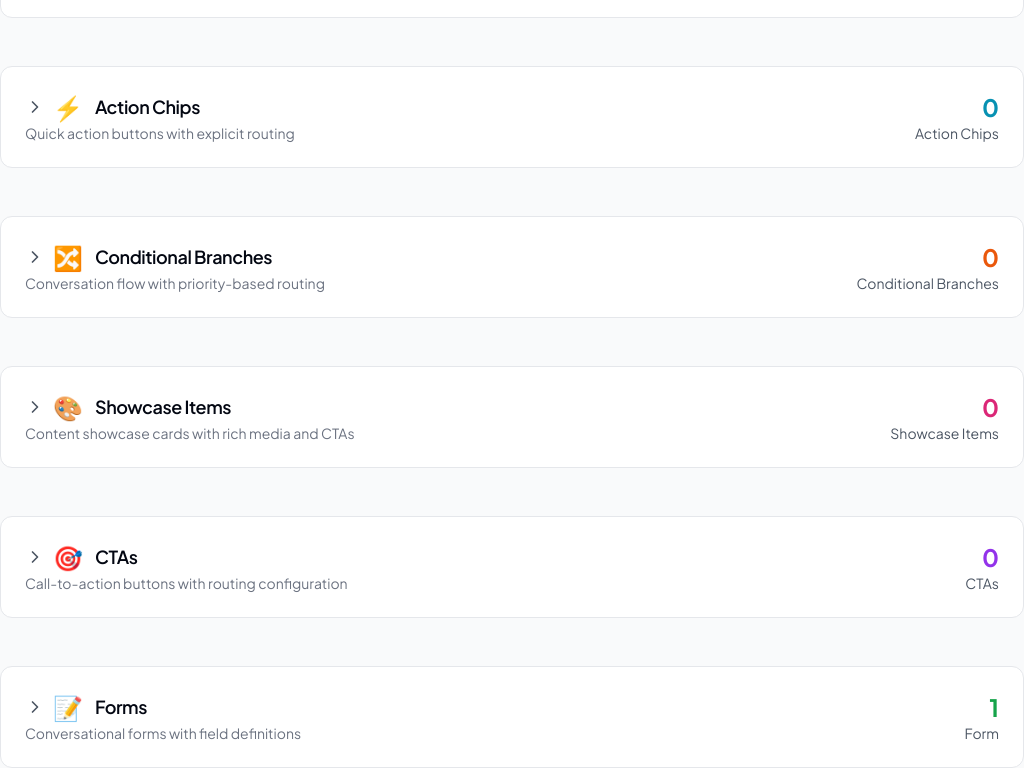
Scenario: ConversationFlowDiagram › Status Icons › should show orphaned icon on orphaned entities
The image size is (1024, 768).
// Expand Forms section
Click the button named "Expand section": (54, 707) [25,691,83,723]
(page scrolled)
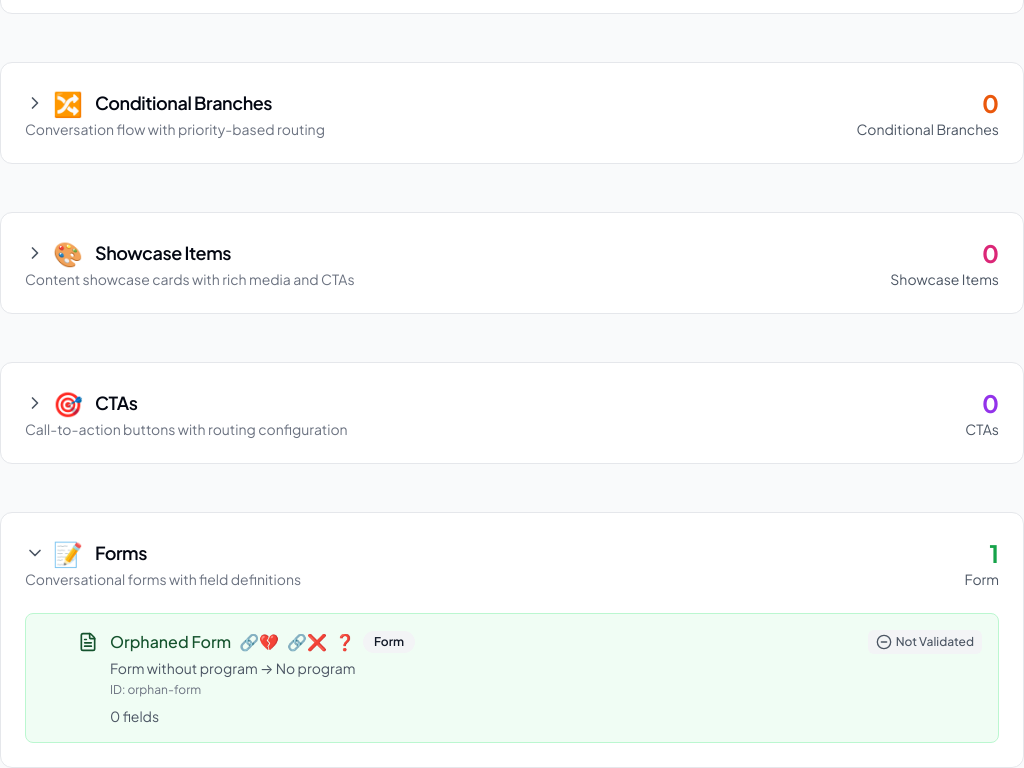
Expected: the text "🔗💔" is shown, [239,630,279,654]
